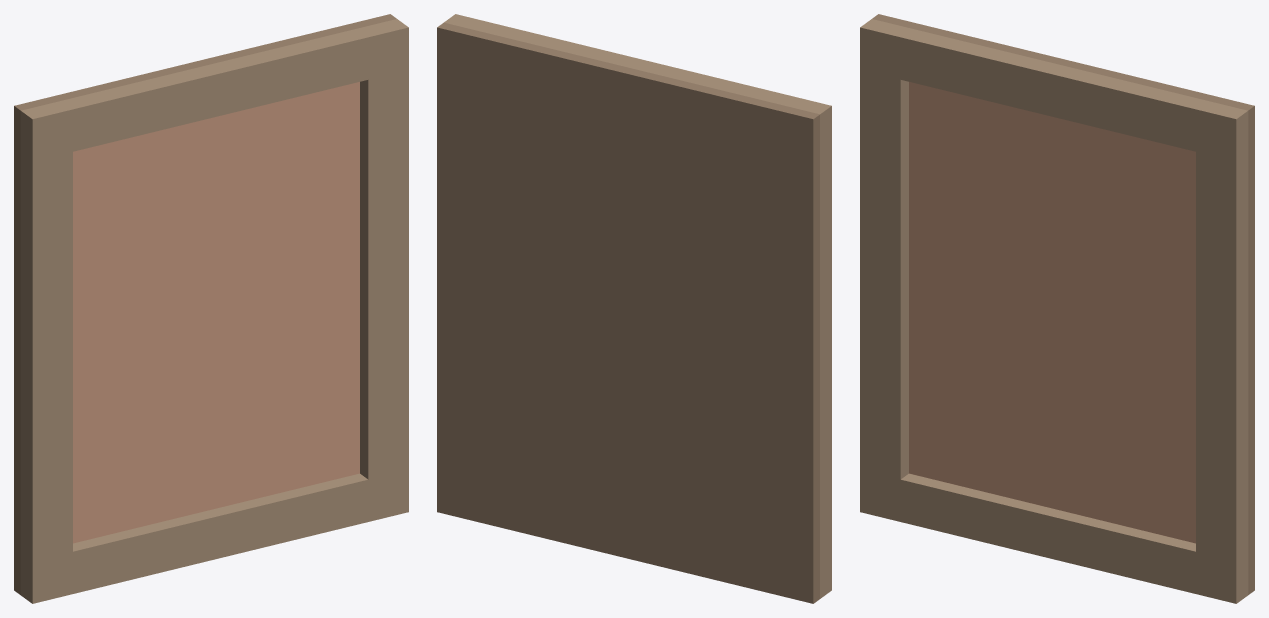
File: picture-frame-2.gltf
3 views of the same model, side by side, from view 1: azimuth 30°, elevation 25°; view 2: azimuth 150°, elevation 25°; view 3: azimuth 330°, elevation 25° (orthographic).
Visible parts, largest first — view 1: photo, rail_l, rail_t, rail_r, rail_b, back; view 2: back, rail_t, rail_l; view 3: photo, rail_r, rail_t, rail_l, rail_b, back.
Part boxes in pixels (x1,y1,x2,y2): photo: [73, 82, 359, 543]; rail_l: [20, 152, 72, 561]; rail_t: [20, 19, 408, 161]; rail_r: [360, 70, 408, 479]; rail_b: [20, 470, 408, 603]; back: [14, 14, 396, 594]; back: [437, 22, 819, 603]; rail_t: [444, 14, 831, 156]; rail_l: [820, 148, 831, 556]; photo: [909, 82, 1195, 543]; rail_r: [1196, 152, 1248, 561]; rail_t: [860, 19, 1248, 161]; rail_l: [860, 70, 908, 479]; rail_b: [860, 470, 1248, 603]; back: [872, 14, 1254, 594].
Bounding box in the file's own units: 0.0162 × 0.02 × 0.00137.
